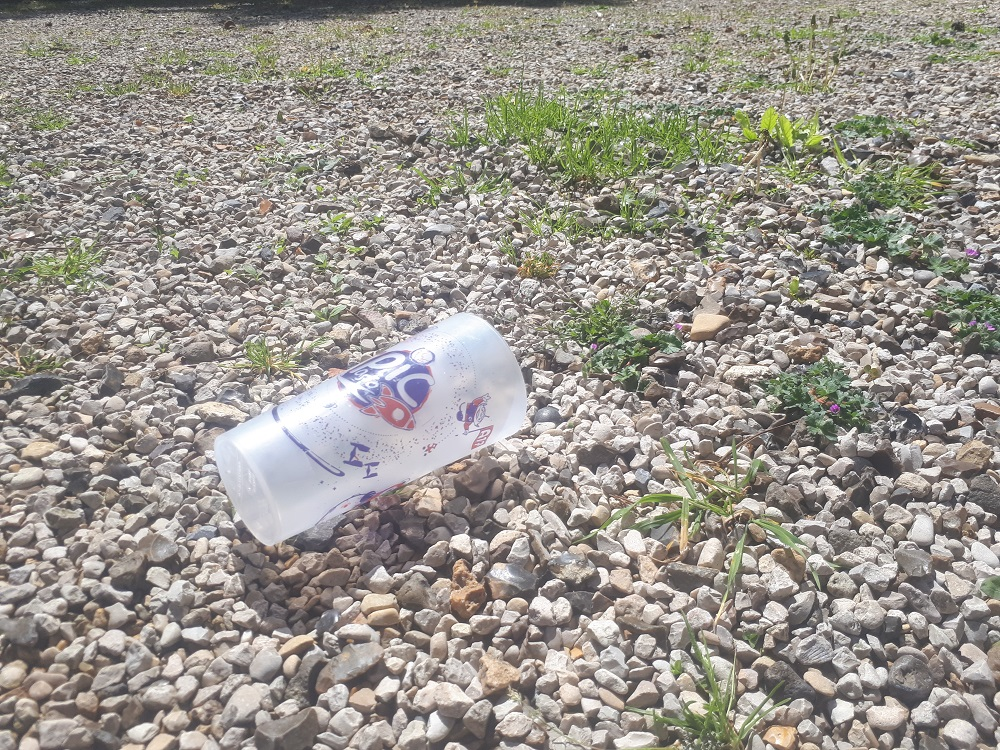ecocup: (212, 311, 529, 549)
